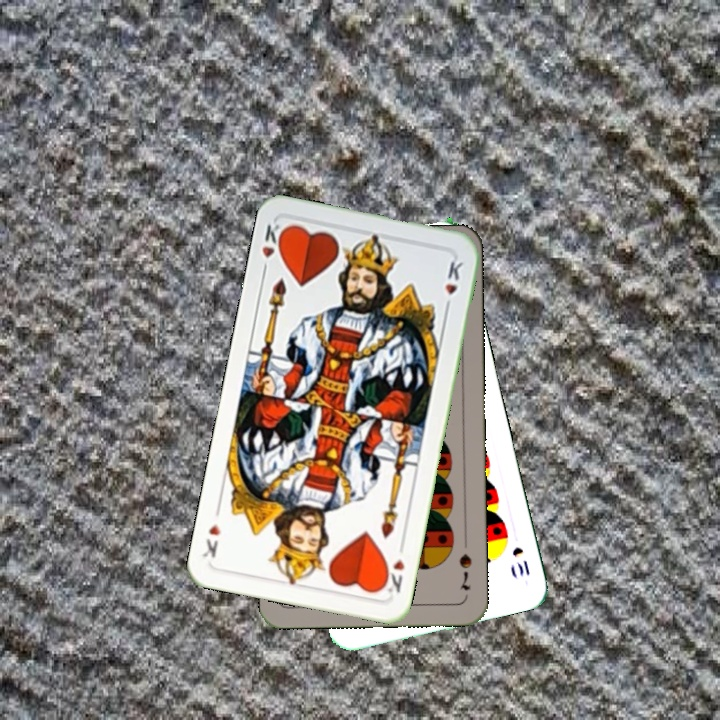HK: (258, 218, 289, 277), (378, 540, 408, 596)
S10: (508, 542, 533, 579)
S7: (455, 549, 475, 593)
